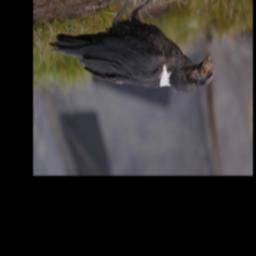Crow: (47, 0, 216, 97)
